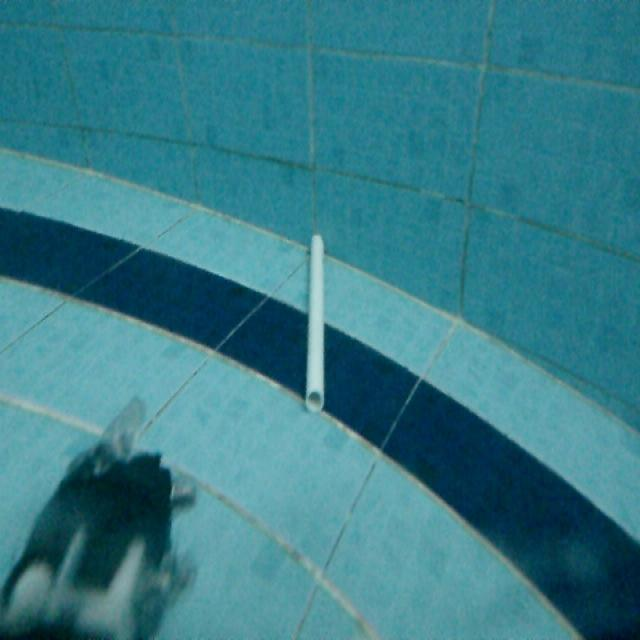Cube: (302, 228, 328, 413)
